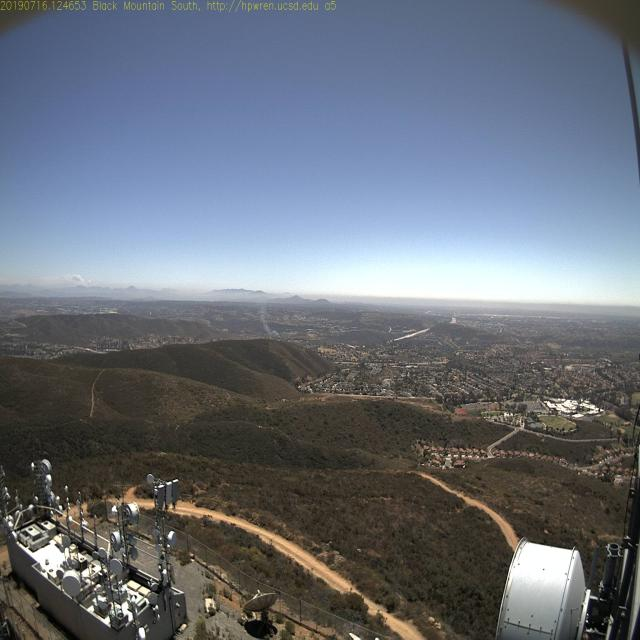smoke: (267, 322, 288, 346)
